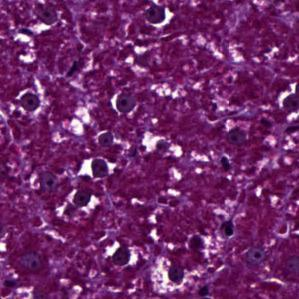inflammation: (73, 157, 122, 183), (12, 85, 48, 120), (156, 261, 190, 294), (101, 241, 138, 268), (107, 91, 141, 120), (68, 188, 102, 216), (141, 3, 174, 28)
